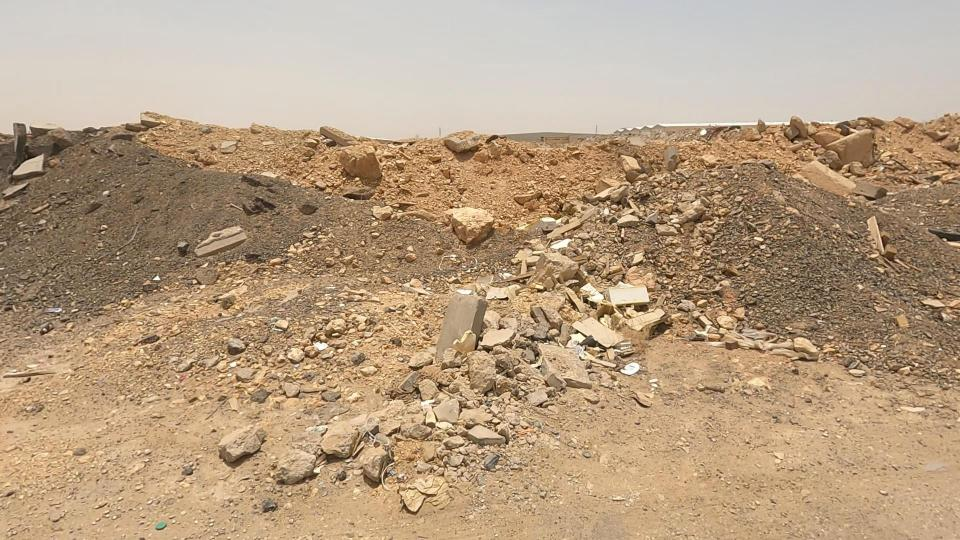GARBAGE: (575, 322, 677, 405), (272, 305, 376, 380)
